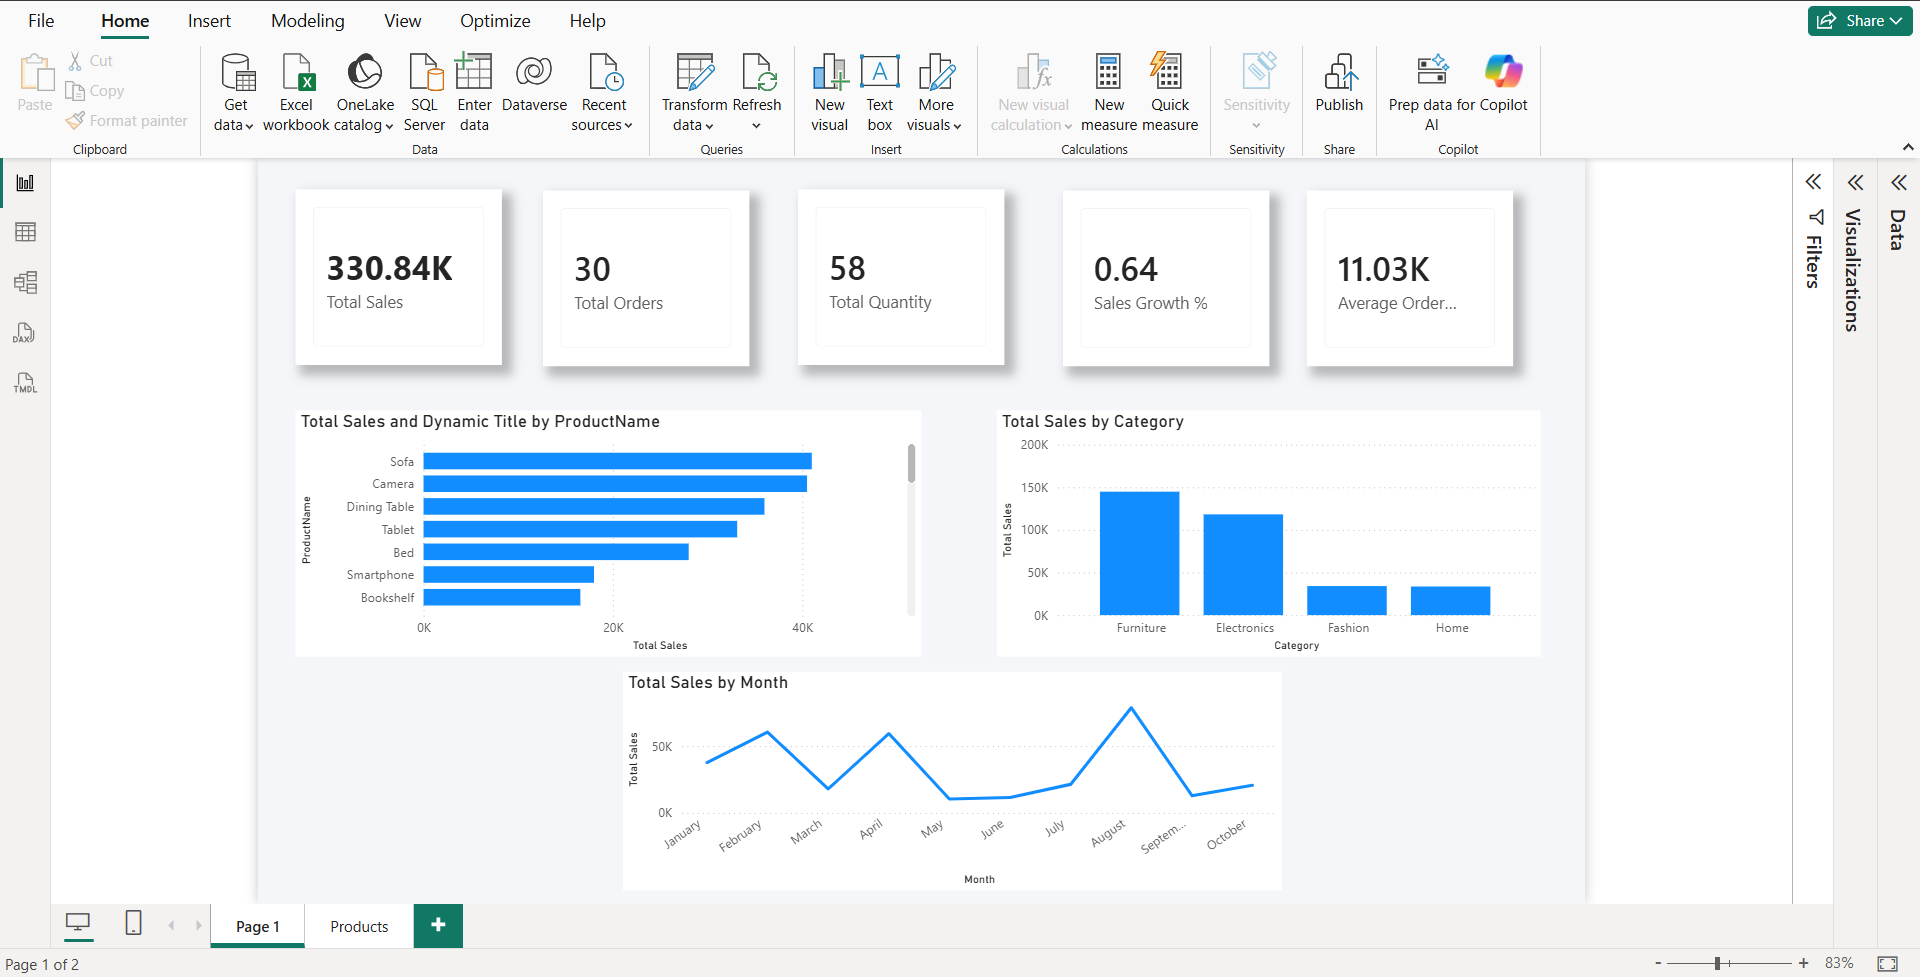

What the dashboard file says about the page in this screenshot:
{"tool":"powerbi","page":{"name":"Page 1","canvas":[1280,720],"ordinal":0},"visuals":[{"type":"lineChart","fields":{"Category":["DateTable.Date.Variation.Date Hierarchy.Month","DateTable.Date.Variation.Date Hierarchy.Day"],"Y":["Orders.Total Sales"]},"box":[352.5,496.2,636.2,211.2],"z":0},{"type":"clusteredColumnChart","fields":{"Category":["Products.Category"],"Y":["Orders.Total Sales"]},"box":[712.5,243.8,525,237.5],"z":1000},{"type":"cardVisual","fields":{"Data":["Orders.Total Sales"]},"box":[35.6,29.9,199.6,169.6],"z":1001},{"type":"cardVisual","fields":{"Data":["Orders.Total Orders"]},"box":[275.1,31.4,199.6,169.6],"z":1002},{"type":"cardVisual","fields":{"Data":["Orders.Total Quantity"]},"box":[521.7,29.9,199.6,169.6],"z":1003},{"type":"cardVisual","fields":{"Data":["DateTable.Sales Growth %"]},"box":[776.8,31.4,199.6,169.6],"z":1005},{"type":"cardVisual","fields":{"Data":["Orders.Average Order Value"]},"box":[1012,31.4,199.6,169.6],"z":1006},{"type":"clusteredBarChart","fields":{"Category":["Products.ProductName"],"Y":["Orders.Total Sales"]},"box":[36.2,243.8,603.8,237.5],"z":1007}]}

Visuals, with their boxes on the page's 1280x720 design canvas (x1, y1, x2, y2). These are canvas units, not pixel positions in the 1920x977 screenshot, which may show the page scaled, cropped or inside an application window:
lineChart - DateTable.Date.Variation.Date Hierarchy.Month x DateTable.Date.Variation.Date Hierarchy.Day: left=352, top=496, right=989, bottom=707
clusteredColumnChart - Products.Category x Orders.Total Sales: left=712, top=244, right=1238, bottom=481
cardVisual - Orders.Total Sales: left=36, top=30, right=235, bottom=200
cardVisual - Orders.Total Orders: left=275, top=31, right=475, bottom=201
cardVisual - Orders.Total Quantity: left=522, top=30, right=721, bottom=200
cardVisual - DateTable.Sales Growth %: left=777, top=31, right=976, bottom=201
cardVisual - Orders.Average Order Value: left=1012, top=31, right=1212, bottom=201
clusteredBarChart - Products.ProductName x Orders.Total Sales: left=36, top=244, right=640, bottom=481
